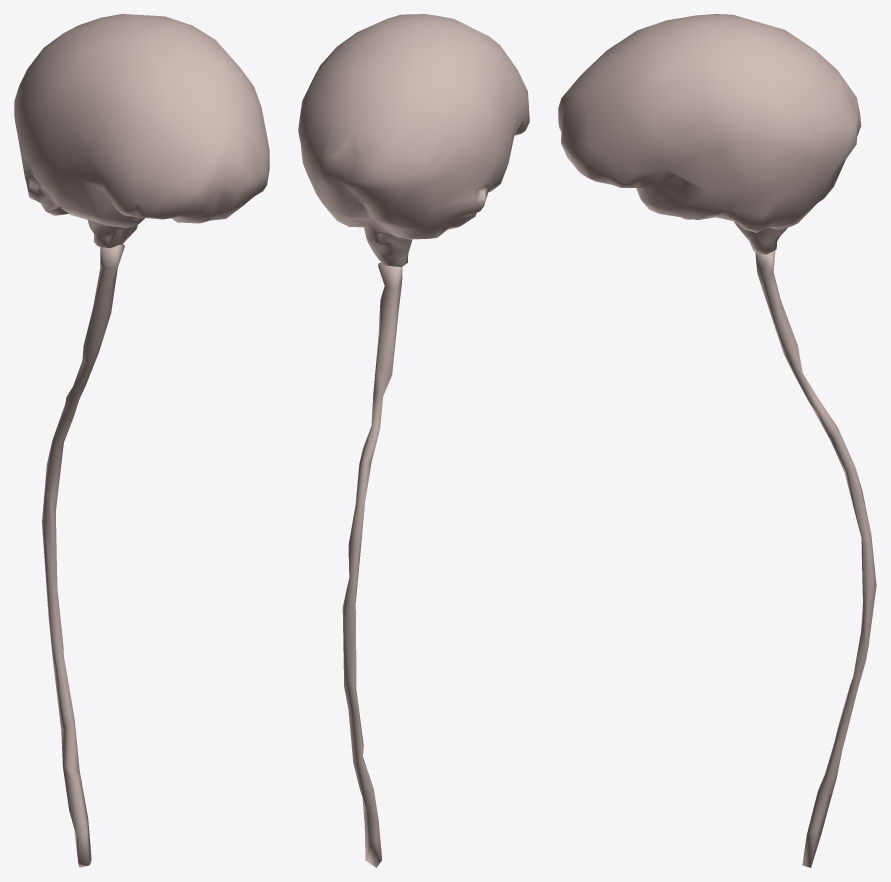
The model's file is icrp_adult_female.nervous.LOD2.glb.
3 views of the same model, side by side, from view 1: azimuth 30°, elevation 25°; view 2: azimuth 150°, elevation 25°; view 3: azimuth 270°, elevation 25° (orthographic). The views are drawn at different scales.
Visible parts, largest first — view 1: ICRP.ADULT.FEMALE.NERVOUS.BRAIN, ICRP.ADULT.FEMALE.NERVOUS.SPINAL_CORD; view 2: ICRP.ADULT.FEMALE.NERVOUS.BRAIN, ICRP.ADULT.FEMALE.NERVOUS.SPINAL_CORD; view 3: ICRP.ADULT.FEMALE.NERVOUS.BRAIN, ICRP.ADULT.FEMALE.NERVOUS.SPINAL_CORD.
Boxes of the visible parts, bbox=[...] form: ICRP.ADULT.FEMALE.NERVOUS.BRAIN: bbox=[14, 14, 269, 248]; ICRP.ADULT.FEMALE.NERVOUS.SPINAL_CORD: bbox=[42, 244, 124, 867]; ICRP.ADULT.FEMALE.NERVOUS.BRAIN: bbox=[298, 14, 529, 266]; ICRP.ADULT.FEMALE.NERVOUS.SPINAL_CORD: bbox=[342, 262, 402, 867]; ICRP.ADULT.FEMALE.NERVOUS.BRAIN: bbox=[558, 14, 861, 254]; ICRP.ADULT.FEMALE.NERVOUS.SPINAL_CORD: bbox=[755, 250, 876, 867].
Size of the model in its own units: 0.1256 by 0.5369 by 0.1826.
